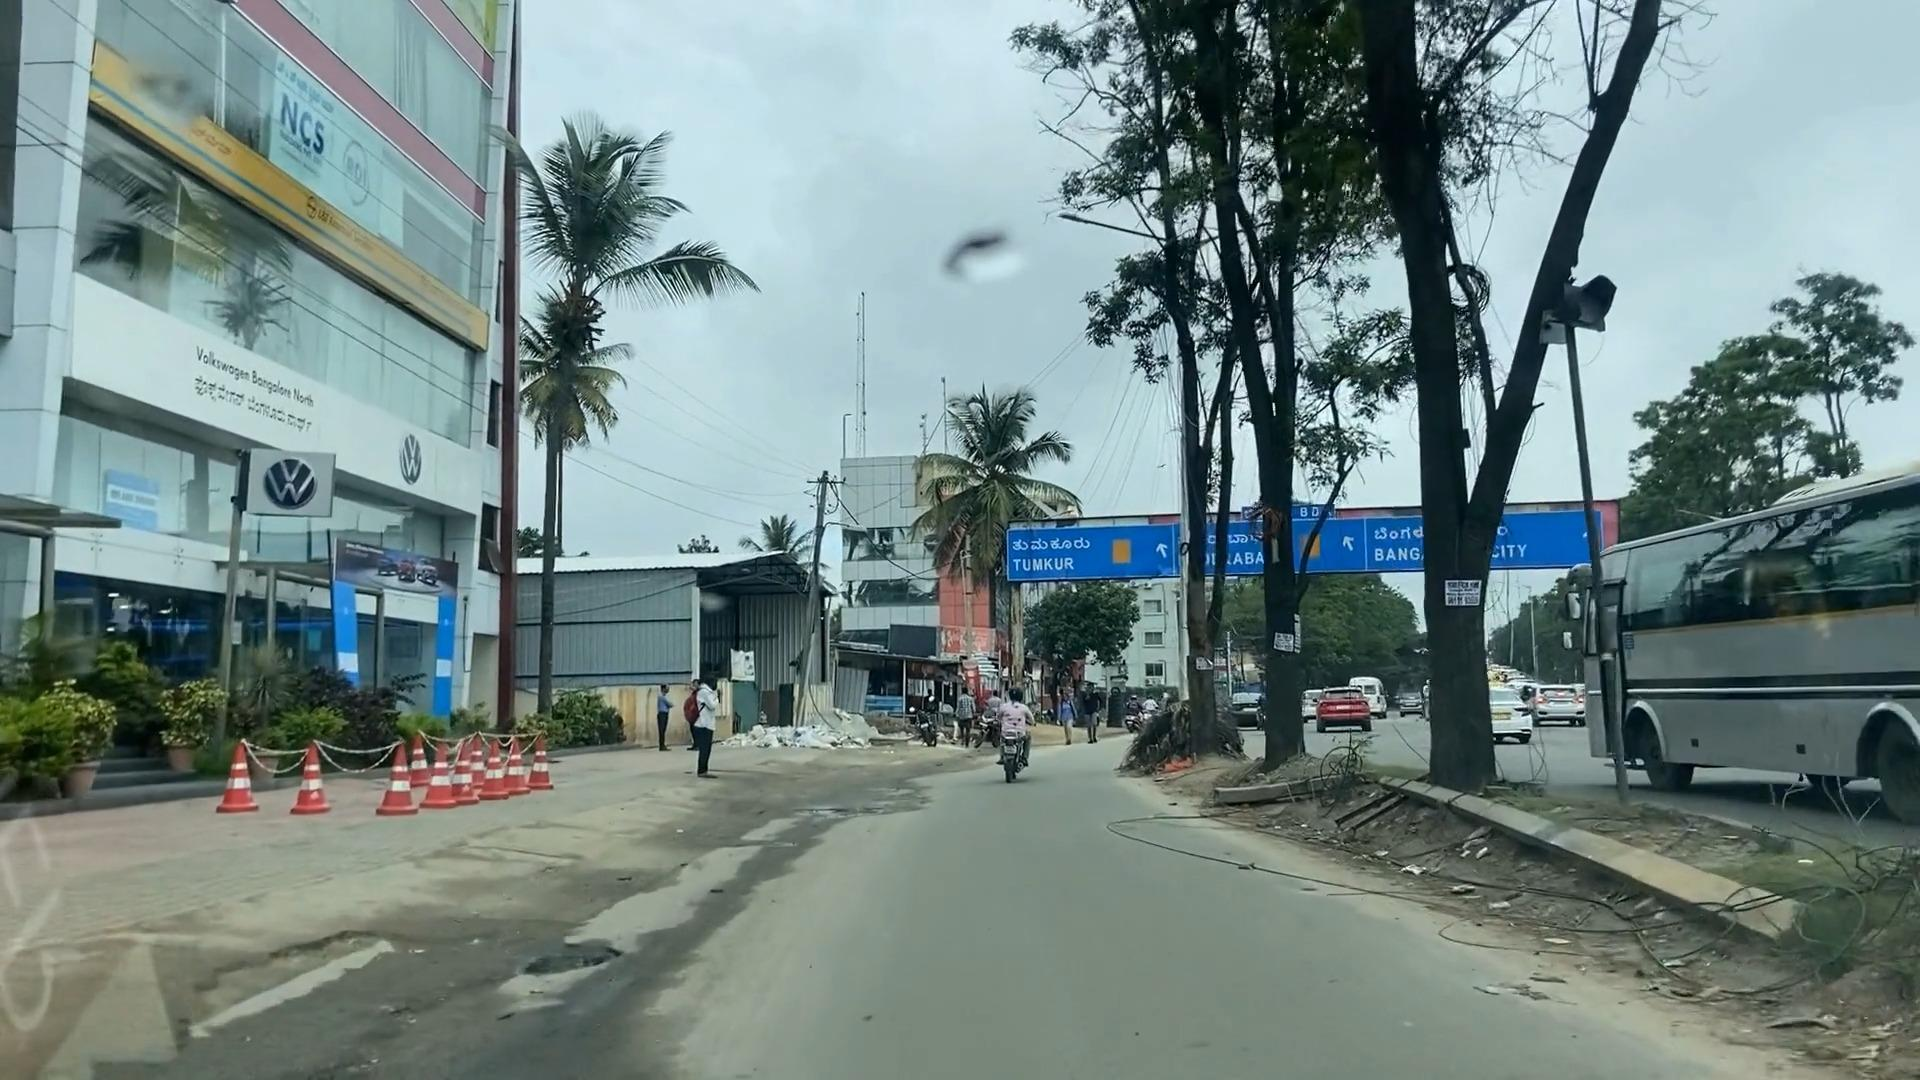RoadDamages: (170, 930, 380, 1059), (493, 927, 653, 1050)
